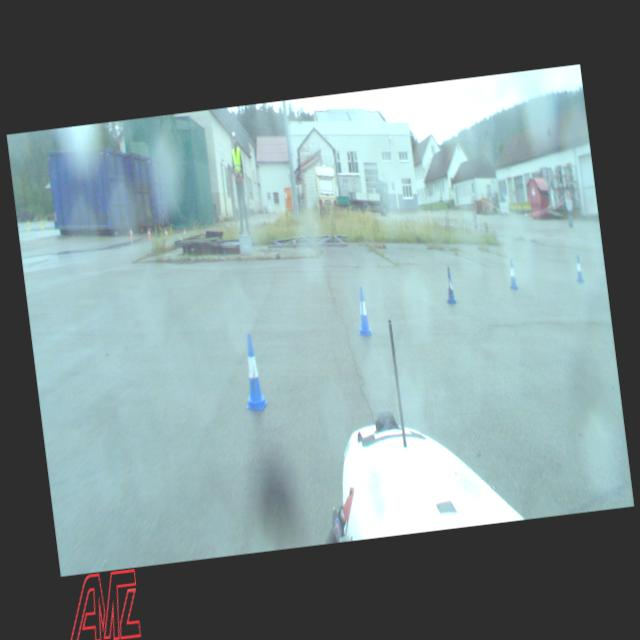blue_cone: (237, 332, 269, 411), (352, 284, 373, 337), (442, 266, 457, 304), (507, 258, 518, 289), (574, 254, 584, 282)
